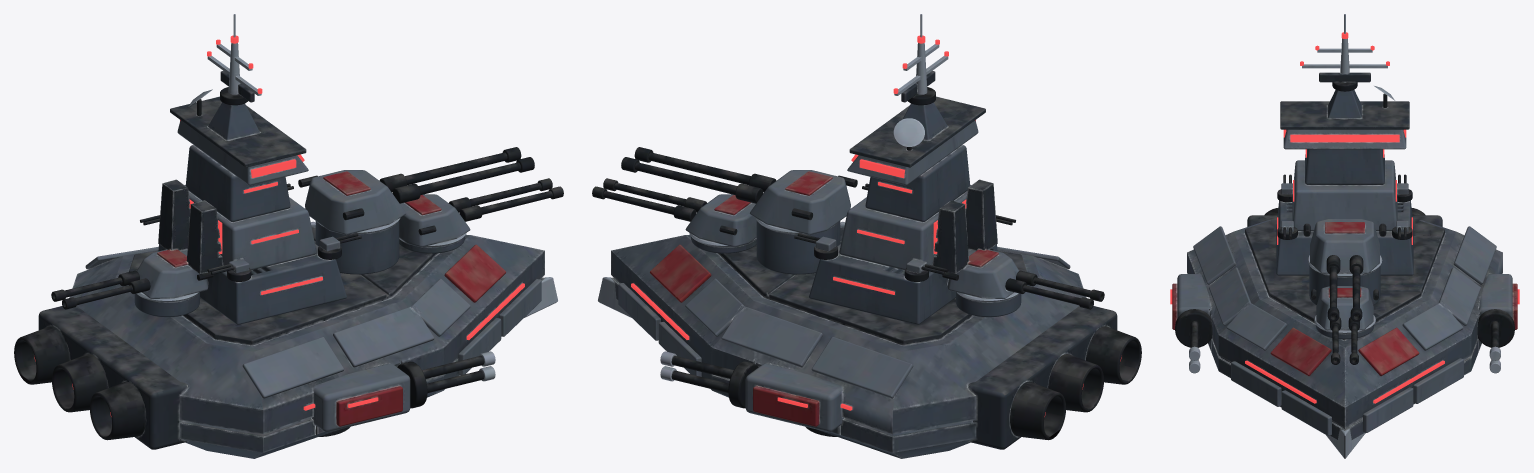
File: colossus.glb
3 views of the same model, side by side, from view 1: azimuth 30°, elevation 25°; view 2: azimuth 150°, elevation 25°; view 3: azimuth 270°, elevation 25° (orthographic). The views are drawn at different scales.
Visible parts, largest first — view 1: Hull, Superstructure; view 2: Hull, Superstructure; view 3: Hull, Superstructure.
Part boxes in pixels (x1=…): Hull: x1=14, y1=221, x2=557, y2=458; Superstructure: x1=51, y1=14, x2=563, y2=324; Hull: x1=598, y1=221, x2=1141, y2=458; Superstructure: x1=592, y1=14, x2=1104, y2=324; Hull: x1=1170, y1=208, x2=1519, y2=458; Superstructure: x1=1276, y1=14, x2=1413, y2=364.
Size of the model in its own units: 8.52 by 6.35 by 6.08.
Materials: 3 (2 with a texture image).
